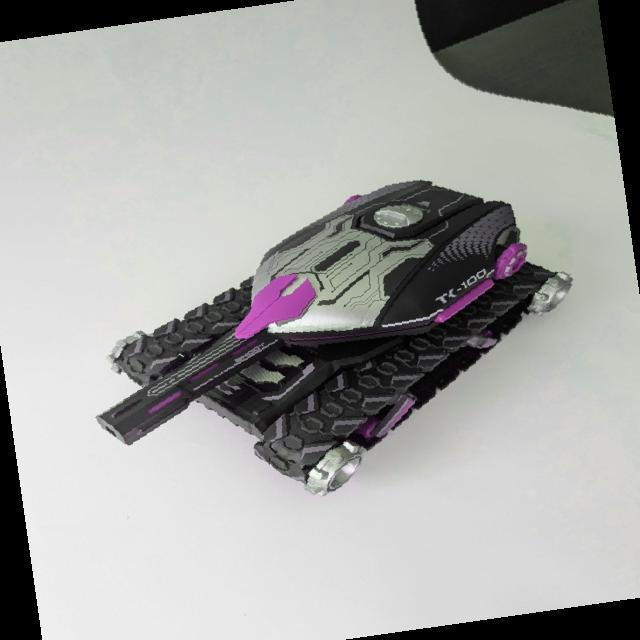barrel: (95, 322, 278, 446)
